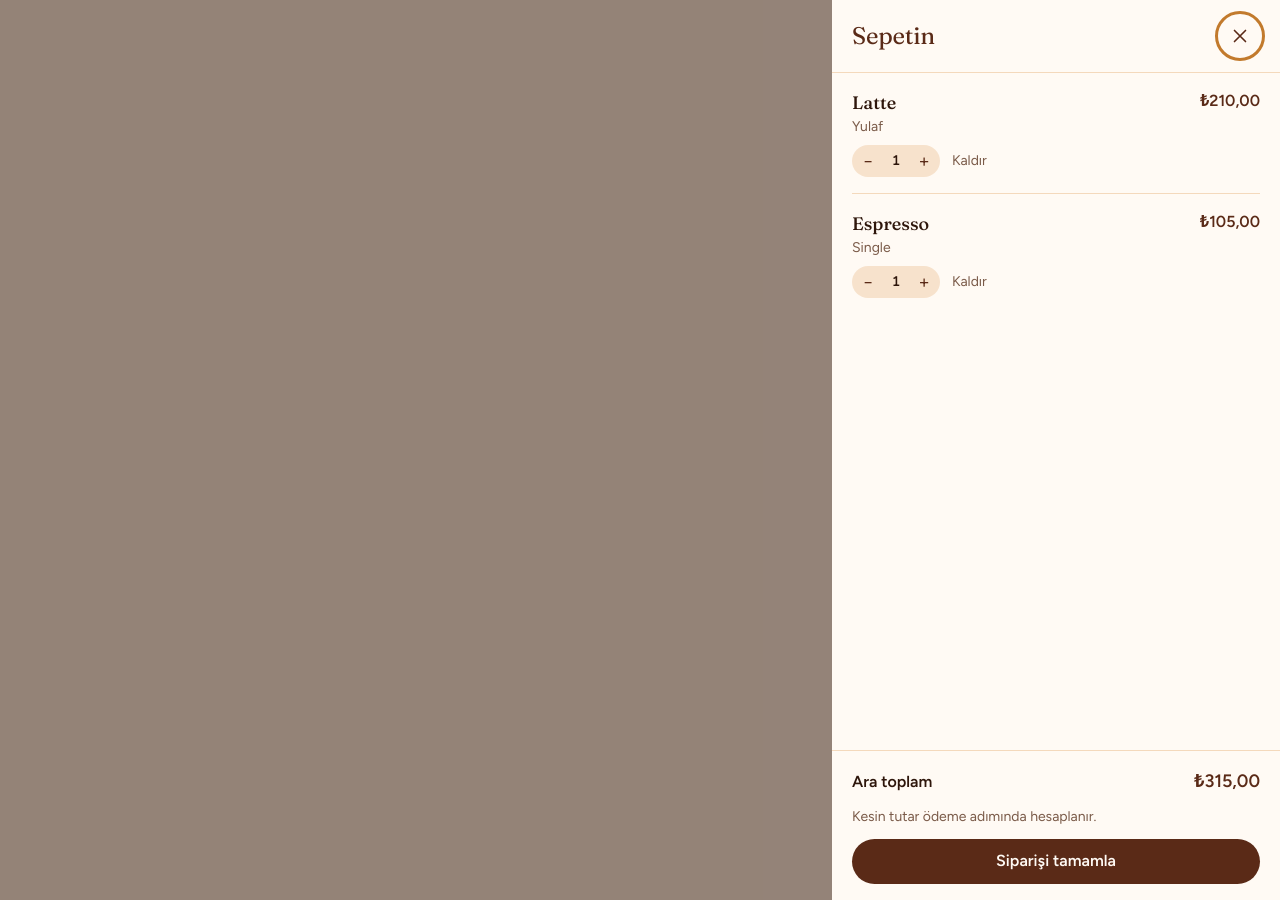
Test: CartDrawer › changes quantities, updates the subtotal and removes lines
Check: the dialog "Sepetin" shows "₺315,00", box [1194,770,1260,792]
Check: the list item "Latte Yulaf − 1 + Kaldır ₺210,00" is shown, box [852,73,1260,194]
Click the button named "Artır": (924, 161) [908,145,940,177]
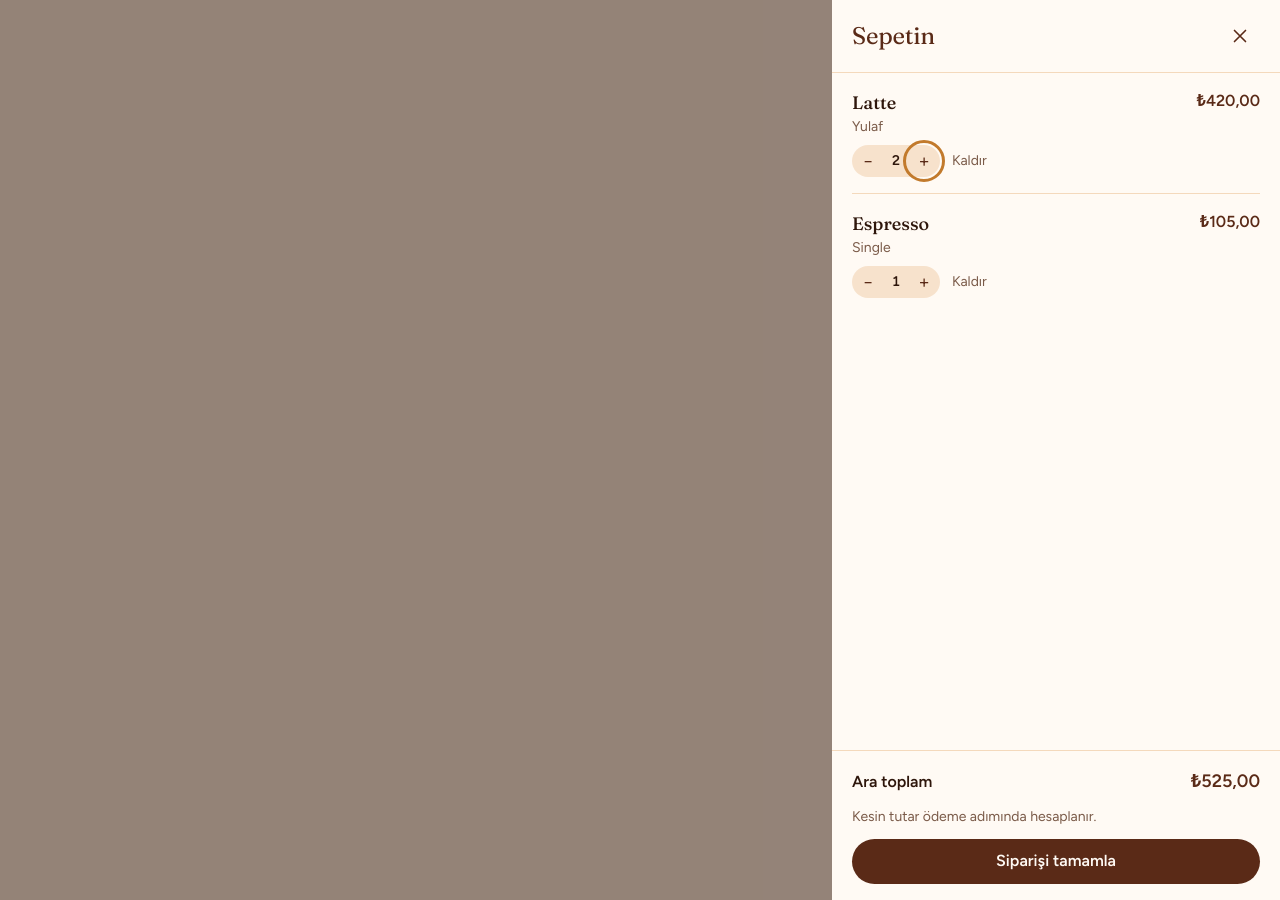
Check: the dialog "Sepetin" shows "₺525,00", box [1191,770,1260,792]
Click the button "Kaldır" below "Yulaf": (969, 161) [952,151,987,171]
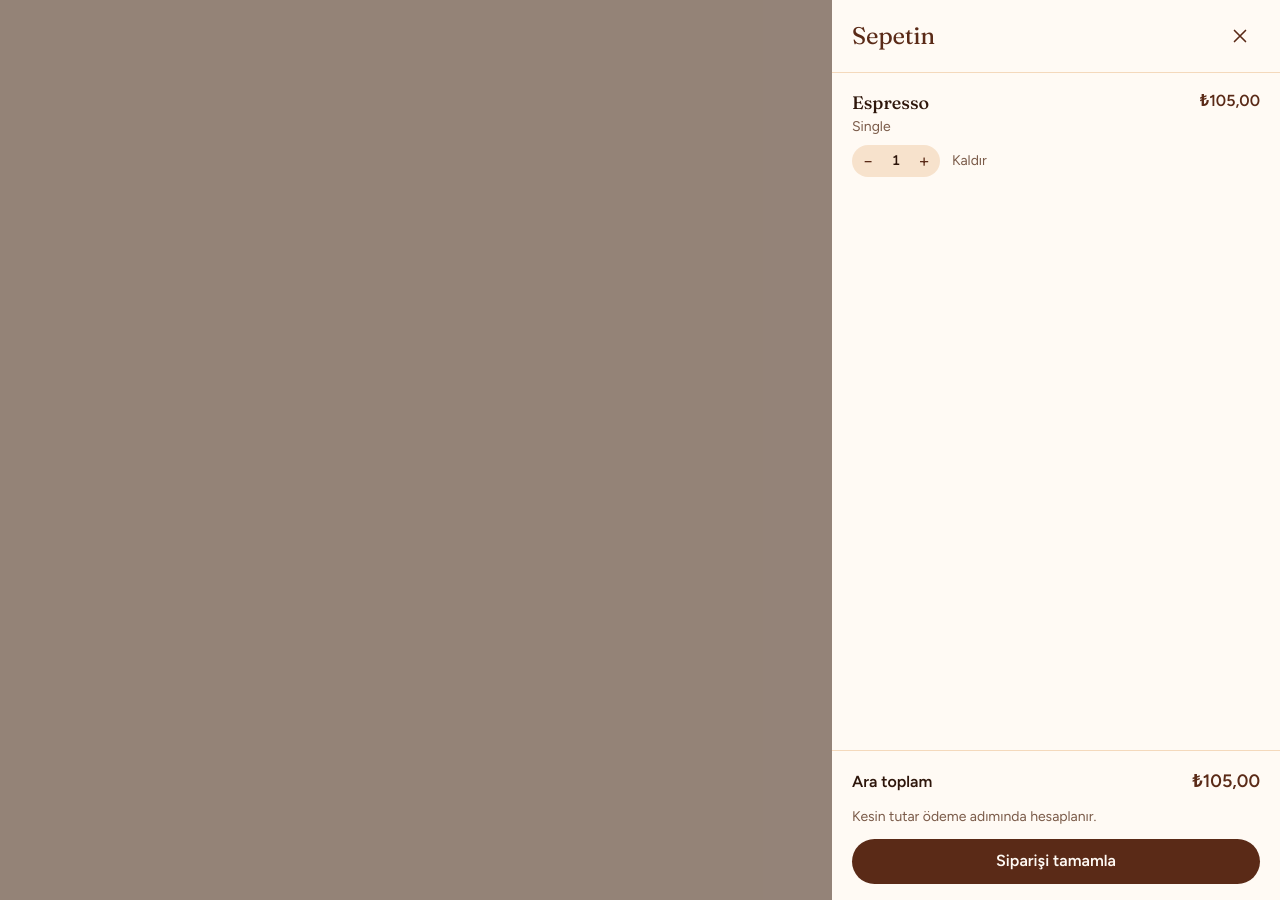
Check: the dialog "Sepetin" shows "₺105,00", box [1200,91,1260,110]
Check: the text "Latte" is gone
